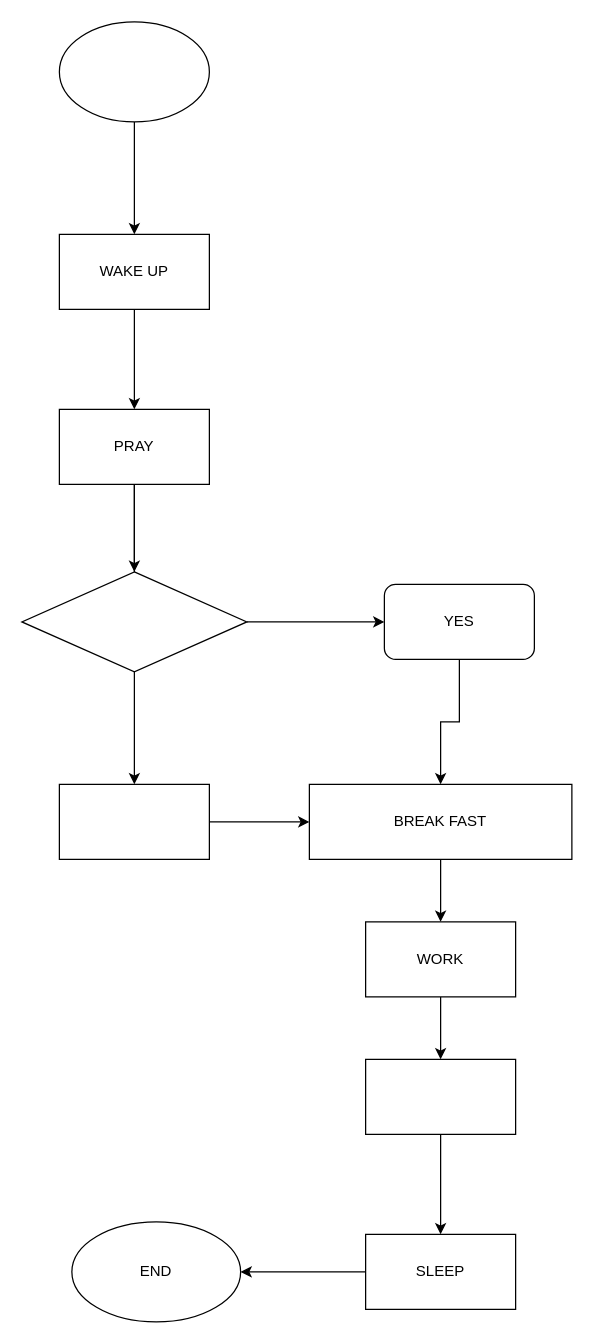
Image size: 594x1344. Some labels were removed from this diagram. The centre of each missing label's shape, as x and y in pixels:
"GO FOR JOGGING?" goes at (x=134, y=621).
"GO HOME" goes at (x=440, y=1096).
"NO" goes at (x=133, y=821).
"START" goes at (x=133, y=71).
